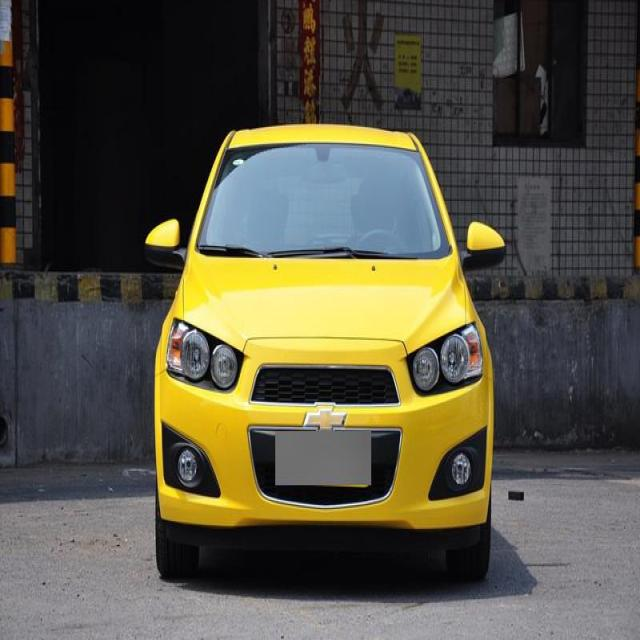front_bumper: (153, 372, 494, 530)
front_glass: (195, 142, 450, 252)
front_left_side_light: (406, 320, 485, 399)
front_left_side_mirror: (461, 218, 507, 270)
front_right_side_light: (164, 310, 246, 396)
front_right_side_mirror: (144, 215, 186, 272)
